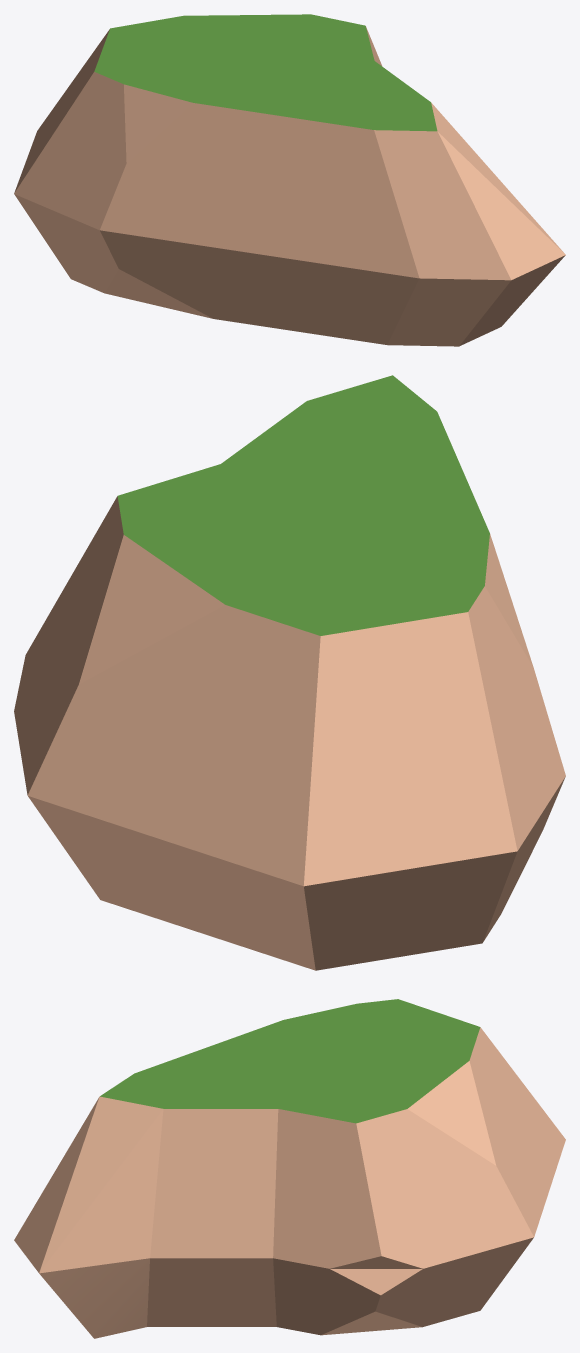
Rendered from rock-4.glb.
3 renders of one model, top to bottom at view 1: azimuth 30°, elevation 25°; view 2: azimuth 150°, elevation 25°; view 3: azimuth 270°, elevation 25°, orthographic. The views are drawn at different scales.
Visible parts, largest first — view 1: rock_largeB; view 2: rock_largeB; view 3: rock_largeB.
Boxes of the visible parts, <box> form: rock_largeB: <box>14,14,565,346</box>; rock_largeB: <box>14,375,565,970</box>; rock_largeB: <box>14,999,565,1338</box>.
Bounding box in the file's own units: 1.69 × 0.9501 × 2.24.
